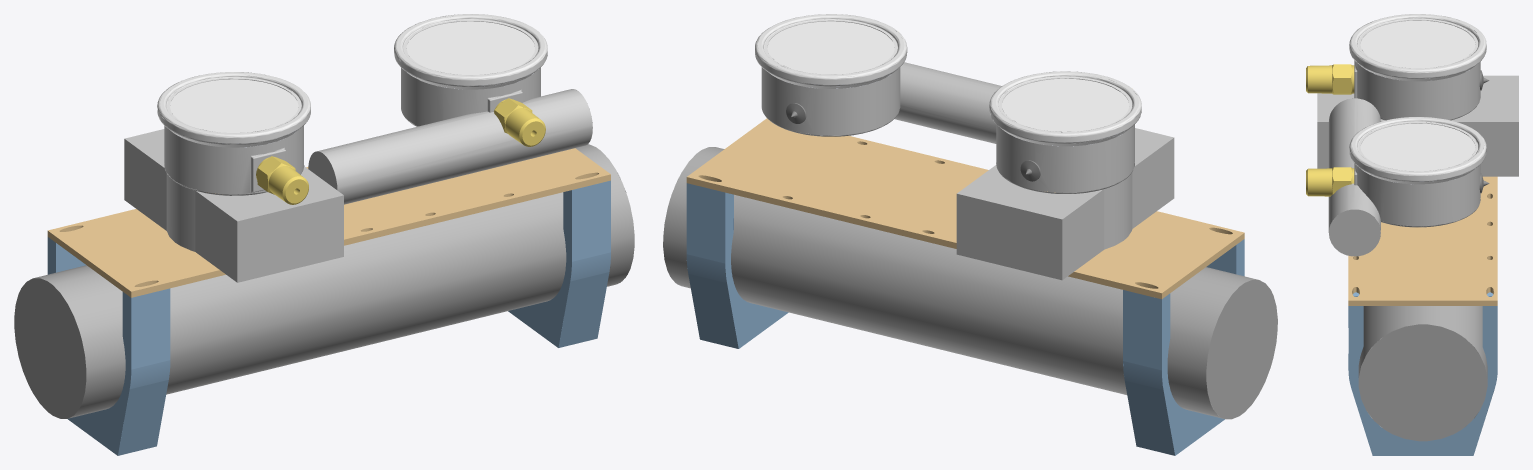
The model's file is intermediate_assembly.dae.
3 views of the same model, side by side, from view 1: azimuth 30°, elevation 25°; view 2: azimuth 150°, elevation 25°; view 3: azimuth 270°, elevation 25° (orthographic). The views are drawn at different scales.
Visible parts, largest first — view 1: Object; view 2: Object; view 3: Object.
Boxes of the visible parts, bbox=[...] form: Object: bbox=[14, 14, 634, 455]; Object: bbox=[663, 14, 1277, 455]; Object: bbox=[1306, 14, 1518, 455].
Size of the model in its own units: 0.28 by 0.1055 by 0.1461.
